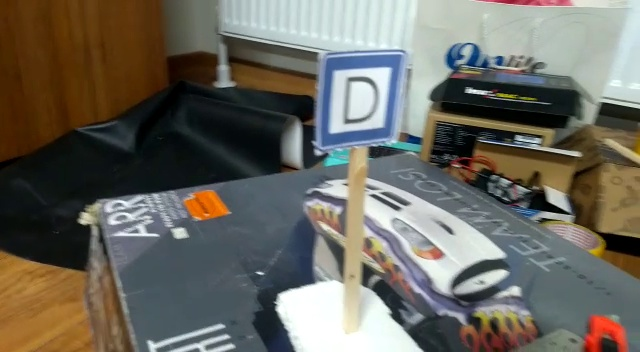durak: (317, 54, 410, 149)
